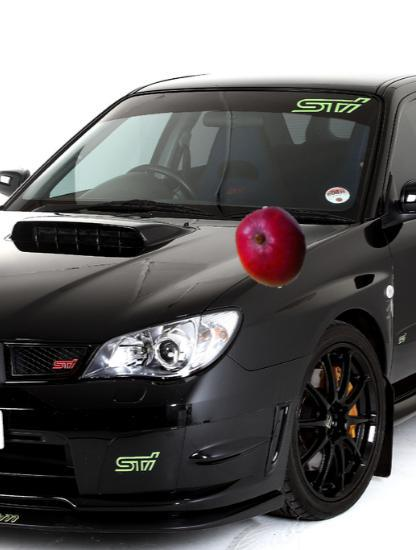Mango: (230, 206, 313, 289)
